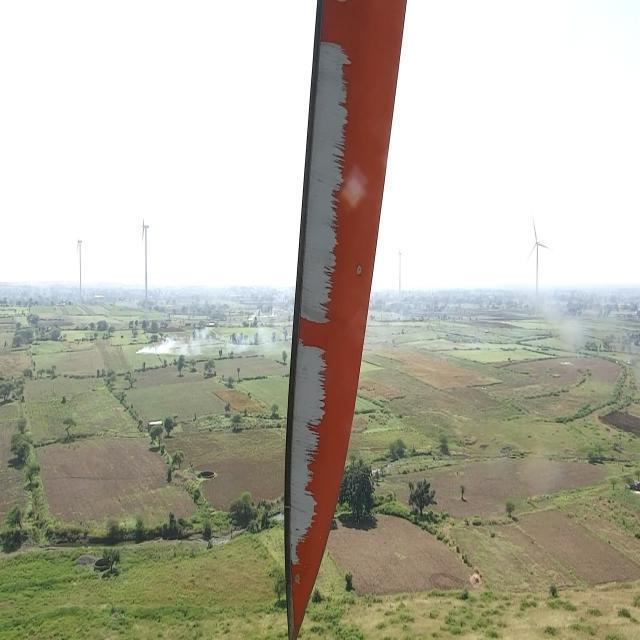PU-tape: (298, 42, 355, 325), (289, 335, 330, 590)
